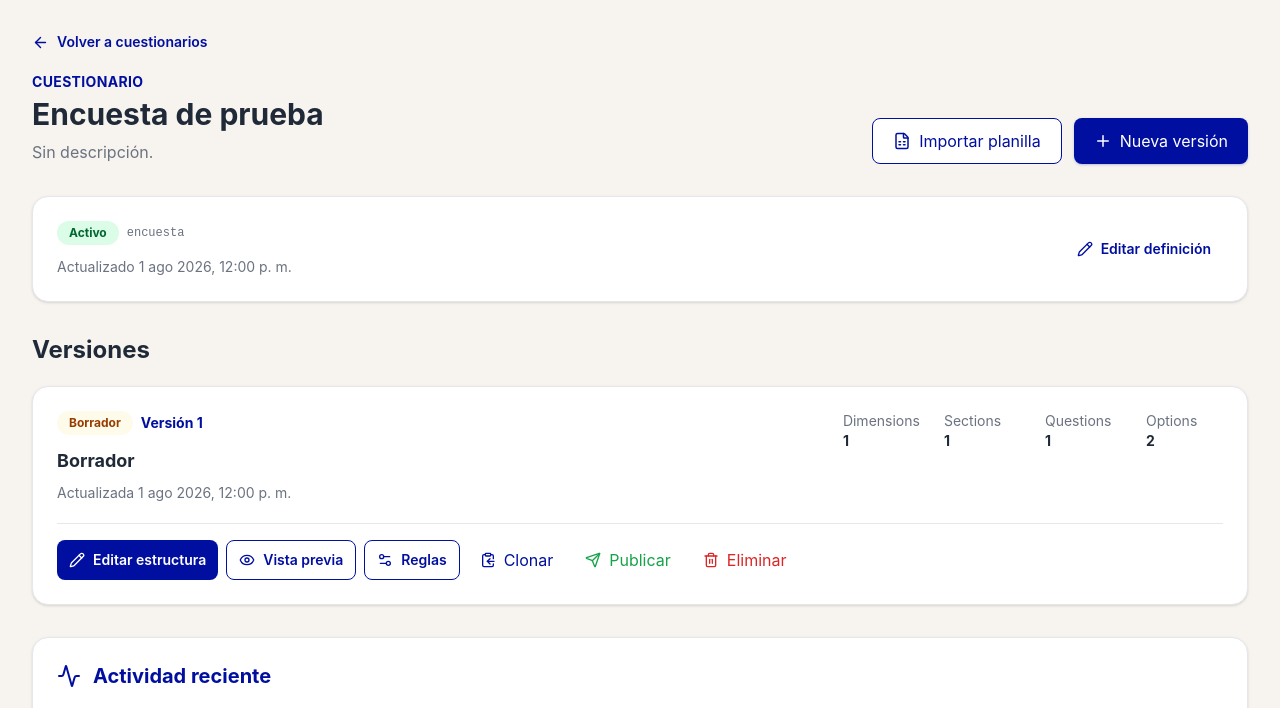
Test: SurveyDetailPage publication validation › muestra juntos los errores que impiden publicar el perfil institucional
The image size is (1280, 708).
Click the button "Publicar". click: (628, 560)
box: [573, 540, 683, 580]
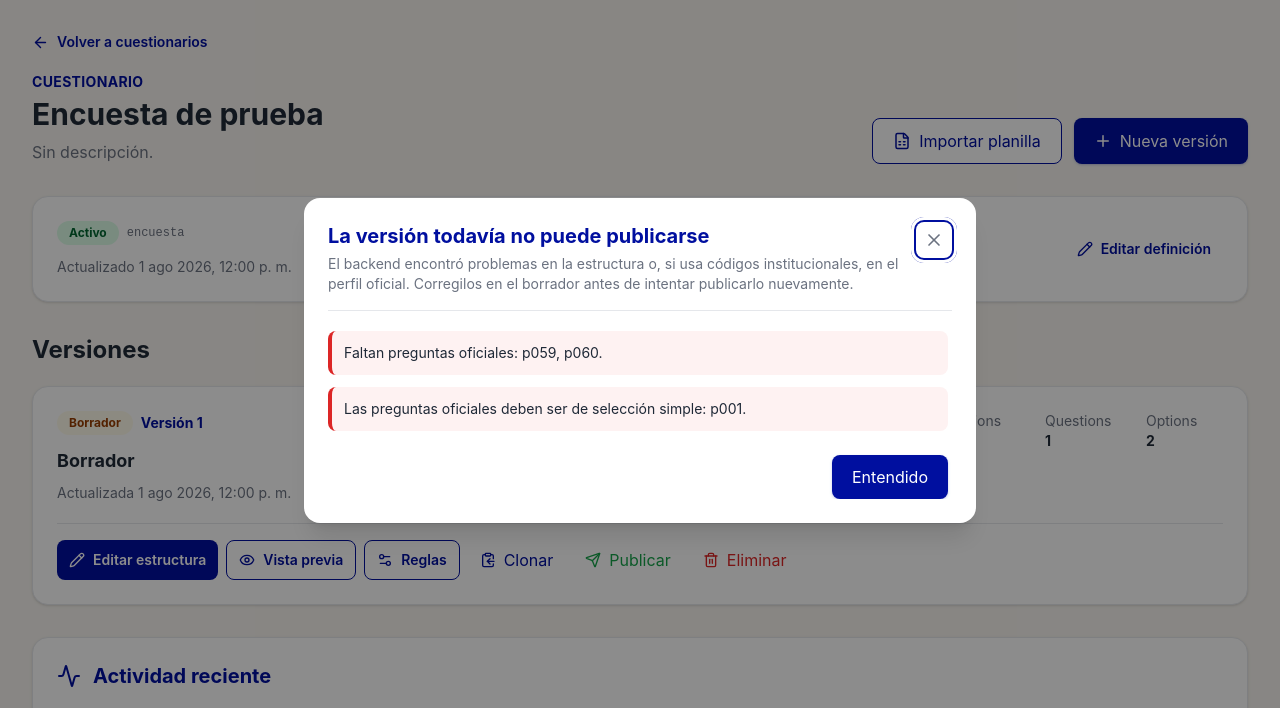
Check: the dialog "La versión todavía no puede publicarse" shows "Faltan preguntas oficiales: p059, p060.", box [344, 344, 603, 360]
Check: the dialog "La versión todavía no puede publicarse" shows "Las preguntas oficiales deben ser de selección simple: p001.", box [344, 400, 746, 416]
